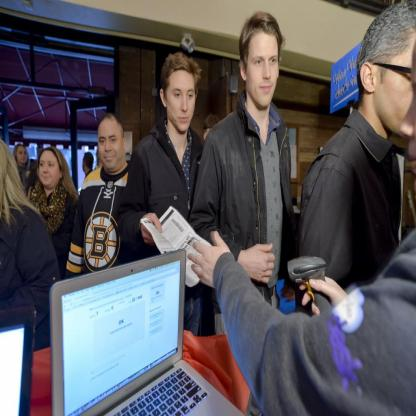board: (50, 249, 242, 416), (0, 306, 37, 416)
